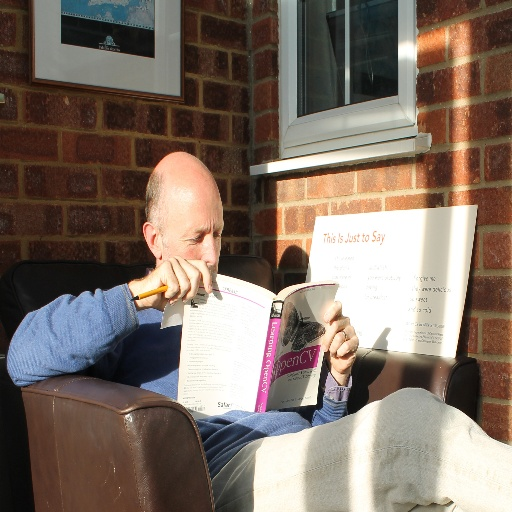hand: (140, 251, 212, 313), (330, 329, 365, 390)
